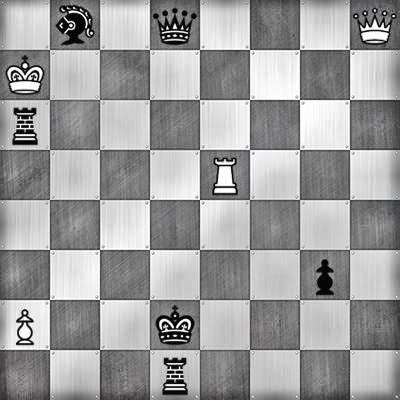black-bishop: (50, 0, 100, 50)
black-king: (150, 300, 200, 350)
black-pawn: (300, 250, 350, 300)
black-queen: (150, 0, 200, 50)
black-rook: (0, 100, 50, 150), (150, 350, 200, 400)
white-king: (0, 50, 50, 100)
white-pawn: (0, 300, 50, 350)
white-queen: (350, 0, 400, 50)
white-rook: (200, 150, 250, 200)
